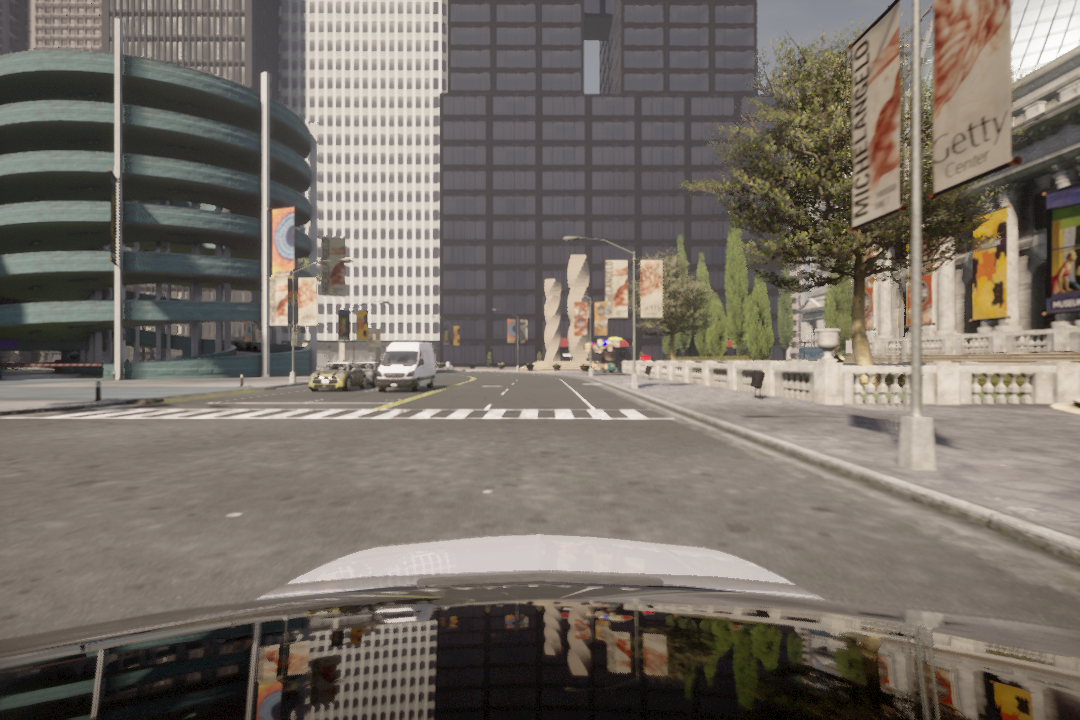walkside: (64, 402, 694, 431)
